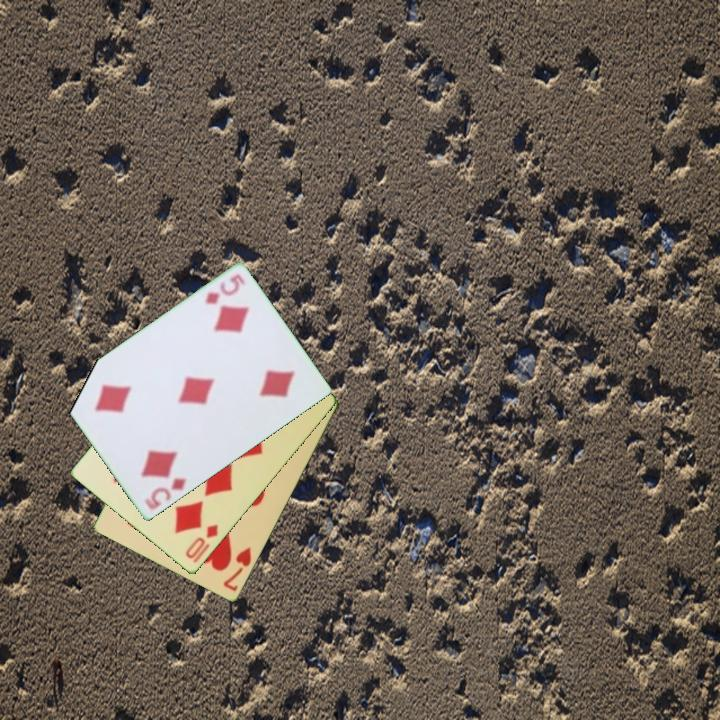10d: (182, 521, 221, 566)
5d: (141, 475, 190, 513), (201, 270, 247, 308)
7h: (219, 544, 255, 594)
